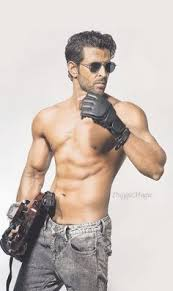Indian_Male: (70, 38, 112, 98)
